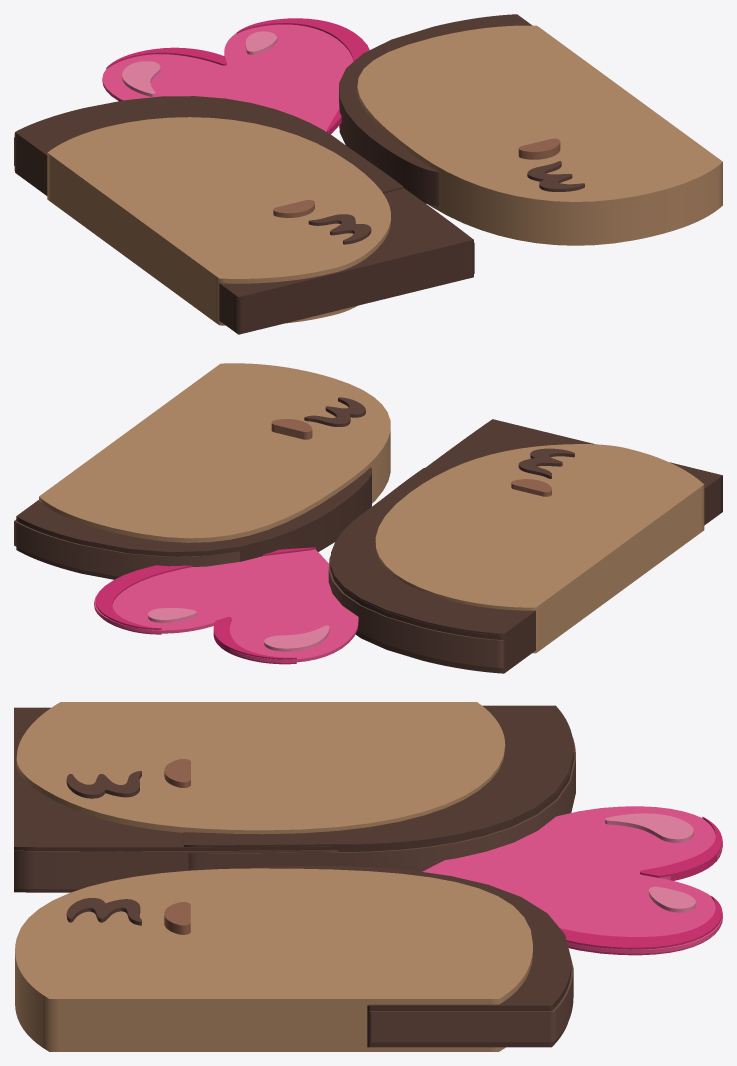
File: emoji_u1f469_1f3fd_200d_2764_200d_1f48b_200d_1f468_1f3fd.glb
3 views of the same model, one above another, from view 1: azimuth 30°, elevation 25°; view 2: azimuth 150°, elevation 25°; view 3: azimuth 270°, elevation 25° (orthographic). The views are drawn at different scales.
Visible parts, largest first — view 1: emoji_u1f469_1f3fd_200d_2764_200d_1f48b_200d_1f468_1f3fd; view 2: emoji_u1f469_1f3fd_200d_2764_200d_1f48b_200d_1f468_1f3fd; view 3: emoji_u1f469_1f3fd_200d_2764_200d_1f48b_200d_1f468_1f3fd.
Part boxes in pixels (x1=…): emoji_u1f469_1f3fd_200d_2764_200d_1f48b_200d_1f468_1f3fd: x1=14, y1=14, x2=722, y2=334; emoji_u1f469_1f3fd_200d_2764_200d_1f48b_200d_1f468_1f3fd: x1=14, y1=363, x2=722, y2=673; emoji_u1f469_1f3fd_200d_2764_200d_1f48b_200d_1f468_1f3fd: x1=14, y1=702, x2=722, y2=1051.
Size of the model in its own units: 0.0336 by 0.0038 by 0.0339.
